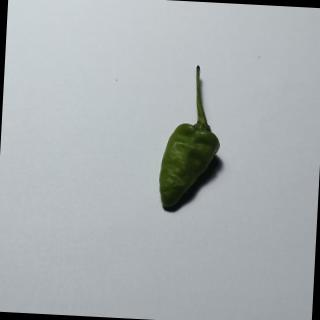Cabai Hijau: (152, 59, 233, 219)
